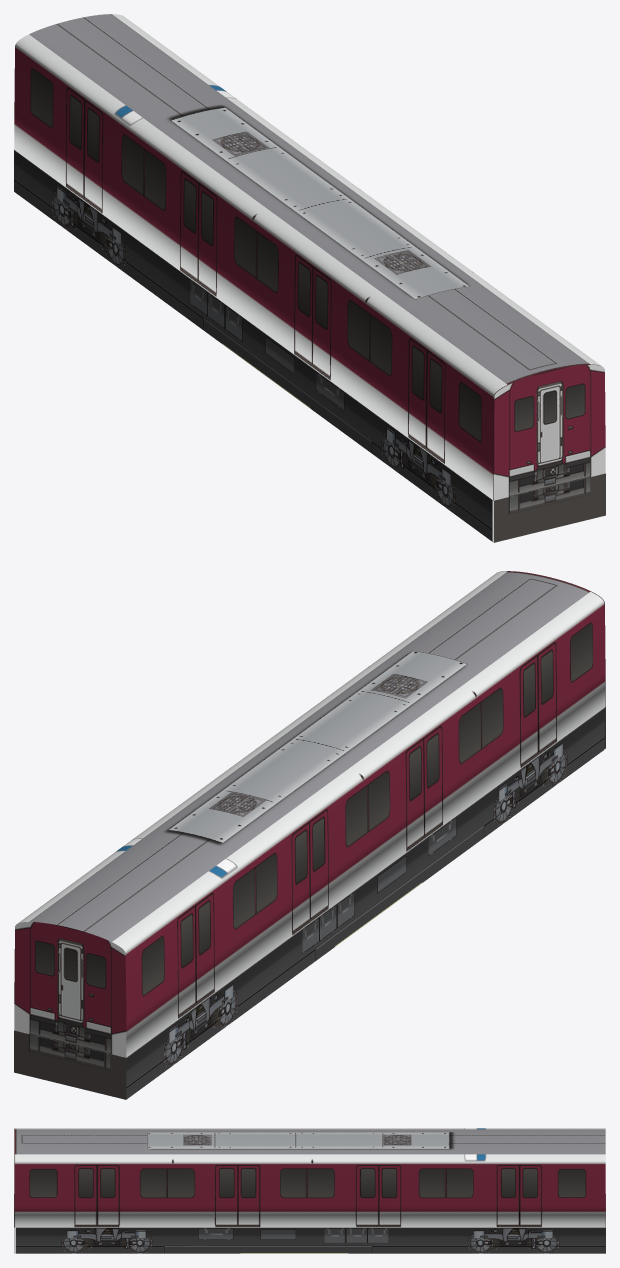
Rendered from car2.glb.
3 renders of one model, top to bottom at view 1: azimuth 30°, elevation 25°; view 2: azimuth 150°, elevation 25°; view 3: azimuth 270°, elevation 25°, orthographic. The views are drawn at different scales.
Visible parts, largest first — view 1: kintetsu-1620-car2; view 2: kintetsu-1620-car2; view 3: kintetsu-1620-car2.
Part boxes in pixels (<box>): kintetsu-1620-car2: <box>14,14,605,542</box>; kintetsu-1620-car2: <box>14,571,605,1099</box>; kintetsu-1620-car2: <box>14,1128,605,1253</box>.
Bounding box in the file's own units: 2.8 × 3.77 × 20.75.
8 materials, 7 textured.
